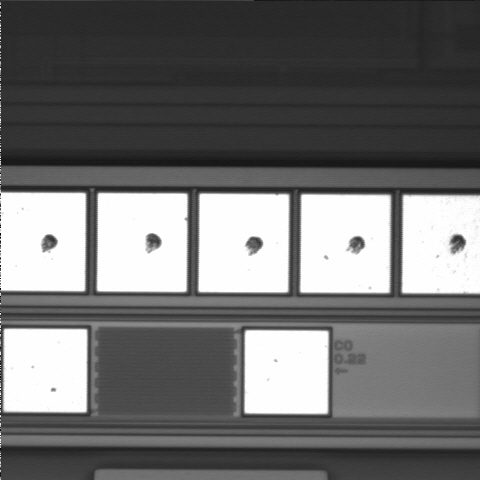pad: (97, 193, 187, 292), (199, 194, 289, 292), (300, 195, 390, 293), (245, 330, 328, 414), (4, 329, 87, 412)
